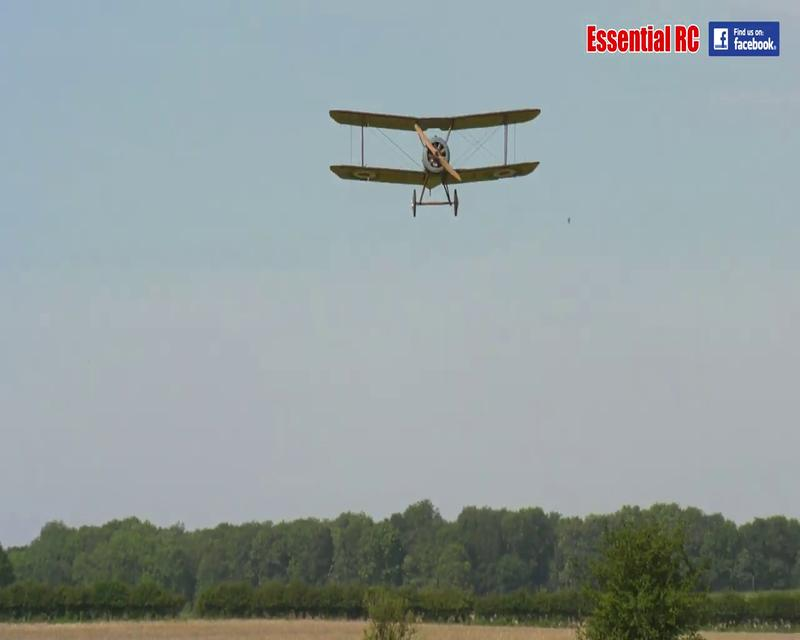UAV: (326, 105, 542, 220)
